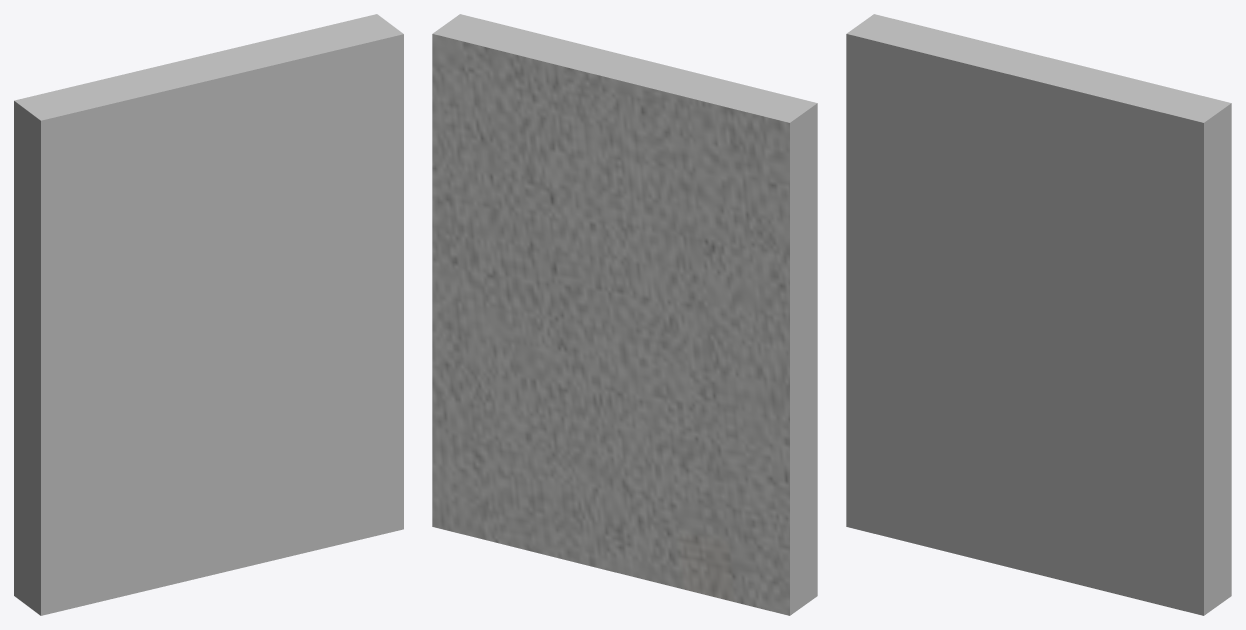
Rendered from vangoghmuseum.gltf.
The picture shows the model from 3 angles, left to right: view 1: azimuth 30°, elevation 25°; view 2: azimuth 150°, elevation 25°; view 3: azimuth 330°, elevation 25°; orthographic projection.
Bounding box in the file's own units: 0.5008 × 0.6556 × 0.0705.
